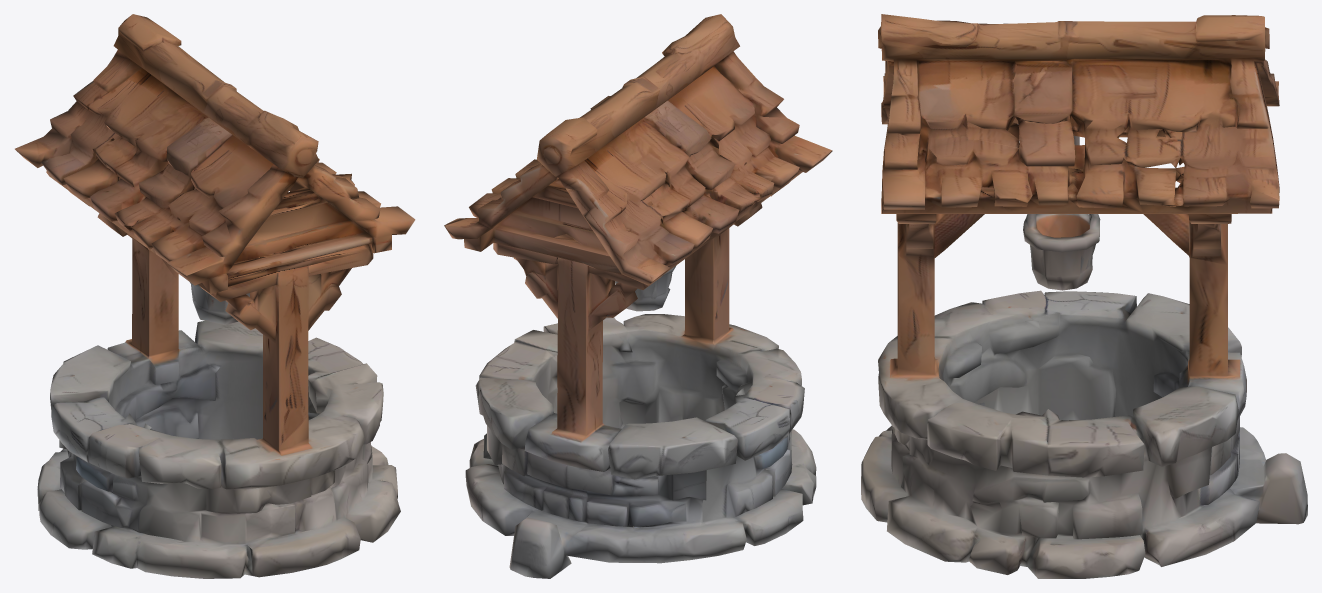
File: wishingwell-tripo-original.glb
The picture shows the model from 3 angles, left to right: view 1: azimuth 30°, elevation 25°; view 2: azimuth 150°, elevation 25°; view 3: azimuth 270°, elevation 25°; orthographic projection. The views are drawn at different scales.
Parts seen in each view (by area): view 1: tripo_node_0ecf7ed9-3383-4df1-951a-f074721a2c99; view 2: tripo_node_0ecf7ed9-3383-4df1-951a-f074721a2c99; view 3: tripo_node_0ecf7ed9-3383-4df1-951a-f074721a2c99.
Boxes of the visible parts, <box> form: tripo_node_0ecf7ed9-3383-4df1-951a-f074721a2c99: <box>15,14,415,578</box>; tripo_node_0ecf7ed9-3383-4df1-951a-f074721a2c99: <box>444,14,832,578</box>; tripo_node_0ecf7ed9-3383-4df1-951a-f074721a2c99: <box>861,14,1307,578</box>.
Bounding box in the file's own units: 0.7533 × 1 × 0.8186.
Materials: 1 (1 with a texture image).
